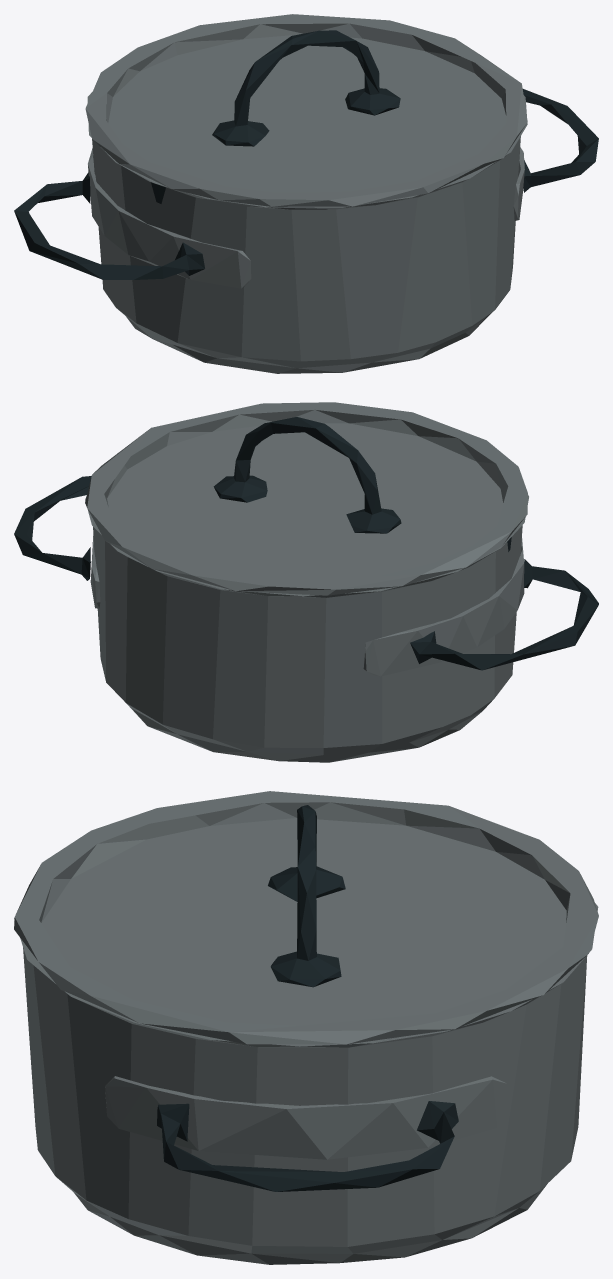
The model's file is Pot04.fbx.
3 views of the same model, one above another, from view 1: azimuth 30°, elevation 25°; view 2: azimuth 150°, elevation 25°; view 3: azimuth 270°, elevation 25° (orthographic). The views are drawn at different scales.
Visible parts, largest first — view 1: Pot04LowPoly, Pot04LidLowPoly; view 2: Pot04LowPoly, Pot04LidLowPoly; view 3: Pot04LowPoly, Pot04LidLowPoly.
Boxes of the visible parts, x1,y1,x2,y2 form: Pot04LowPoly: (14, 89, 598, 373); Pot04LidLowPoly: (85, 14, 527, 206); Pot04LowPoly: (14, 453, 598, 762); Pot04LidLowPoly: (85, 402, 527, 595); Pot04LowPoly: (14, 903, 598, 1264); Pot04LidLowPoly: (14, 791, 598, 1044).
Size of the model in its own units: 28.18 by 13.05 by 19.95.
